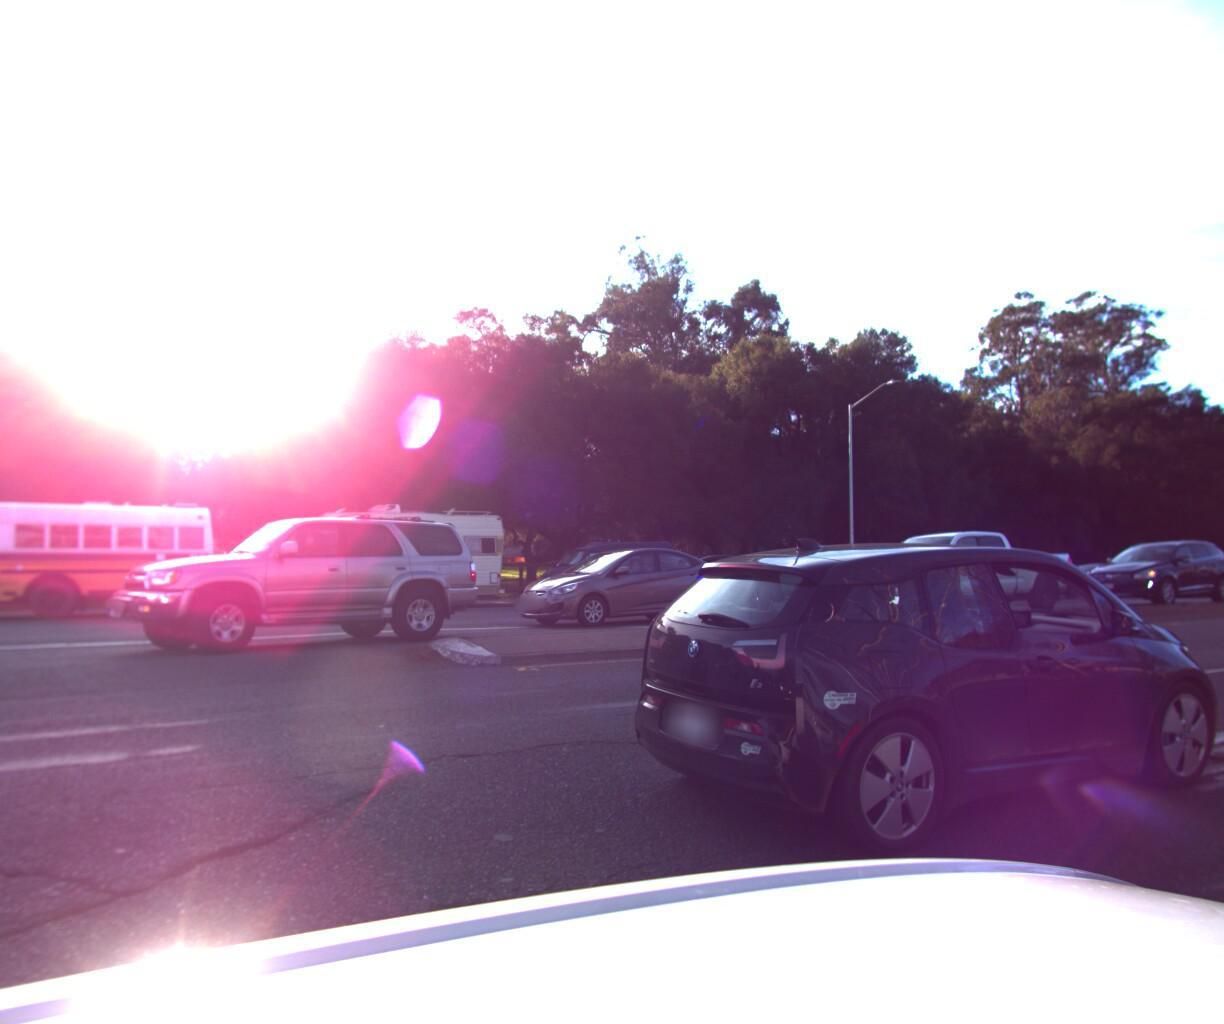car: (600, 524, 1224, 895), (90, 502, 485, 670), (830, 523, 1080, 623), (502, 543, 742, 638), (1069, 532, 1224, 611), (601, 551, 775, 616), (533, 538, 691, 608), (965, 552, 1092, 597), (1123, 549, 1224, 597), (1045, 559, 1126, 591), (1216, 554, 1224, 589)
other_vehicle: (292, 499, 510, 618)
